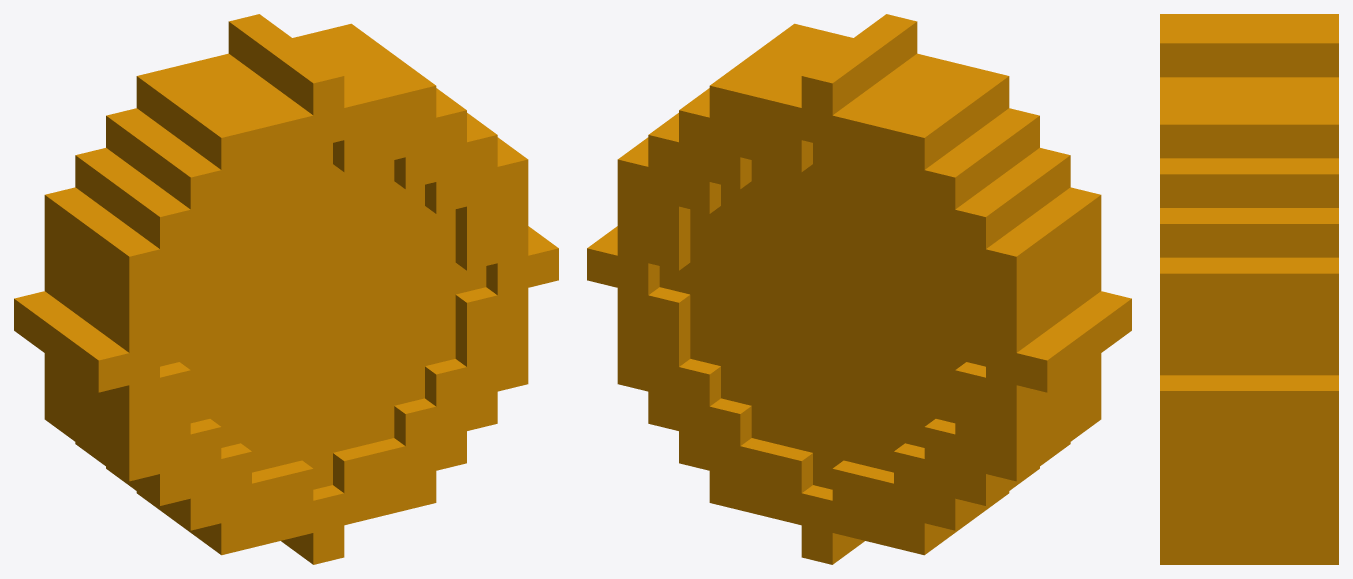
The model's file is coin2.fbx.
The picture shows the model from 3 angles, left to right: view 1: azimuth 30°, elevation 25°; view 2: azimuth 150°, elevation 25°; view 3: azimuth 270°, elevation 25°; orthographic projection. The views are drawn at different scales.
Parts seen in each view (by area): view 1: Coin; view 2: Coin; view 3: Coin.
Boxes of the visible parts, x1=… form: Coin: x1=14, y1=14, x2=558, y2=564; Coin: x1=587, y1=14, x2=1131, y2=564; Coin: x1=1160, y1=14, x2=1338, y2=564.
Size of the model in its own units: 208 by 208 by 66.4.
